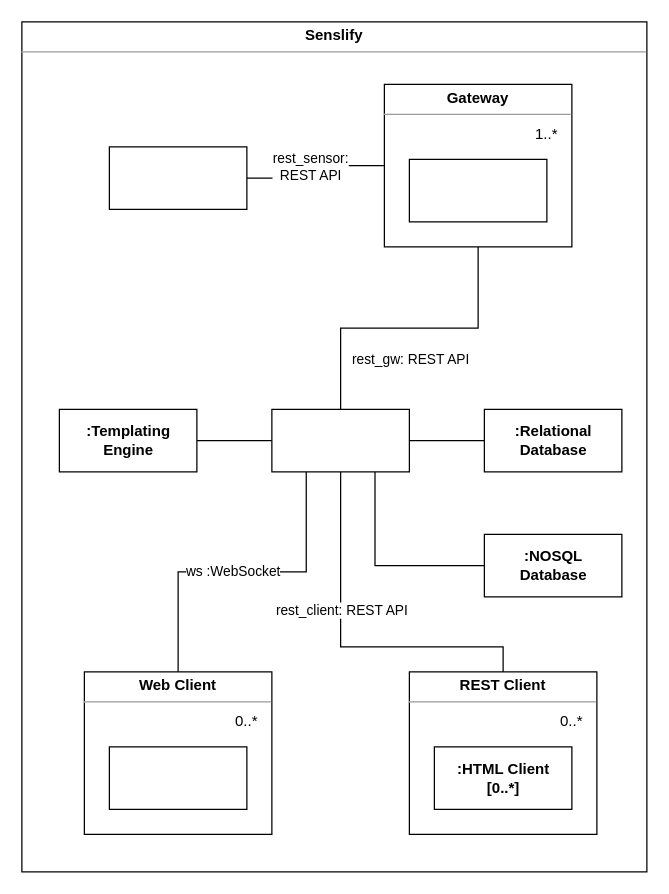
Image size: 669x894. Some labels were removed from this diagram. The box of each missing label's shape, as (x1, y1, x2, y2) in pixels:
:HTML Client [1..*]: (408, 158, 547, 222)
:Web Browser [0..*]: (108, 746, 247, 809)
:Web Server: (271, 408, 409, 472)
:Wireless Sensor [1..*]: (108, 146, 247, 209)
